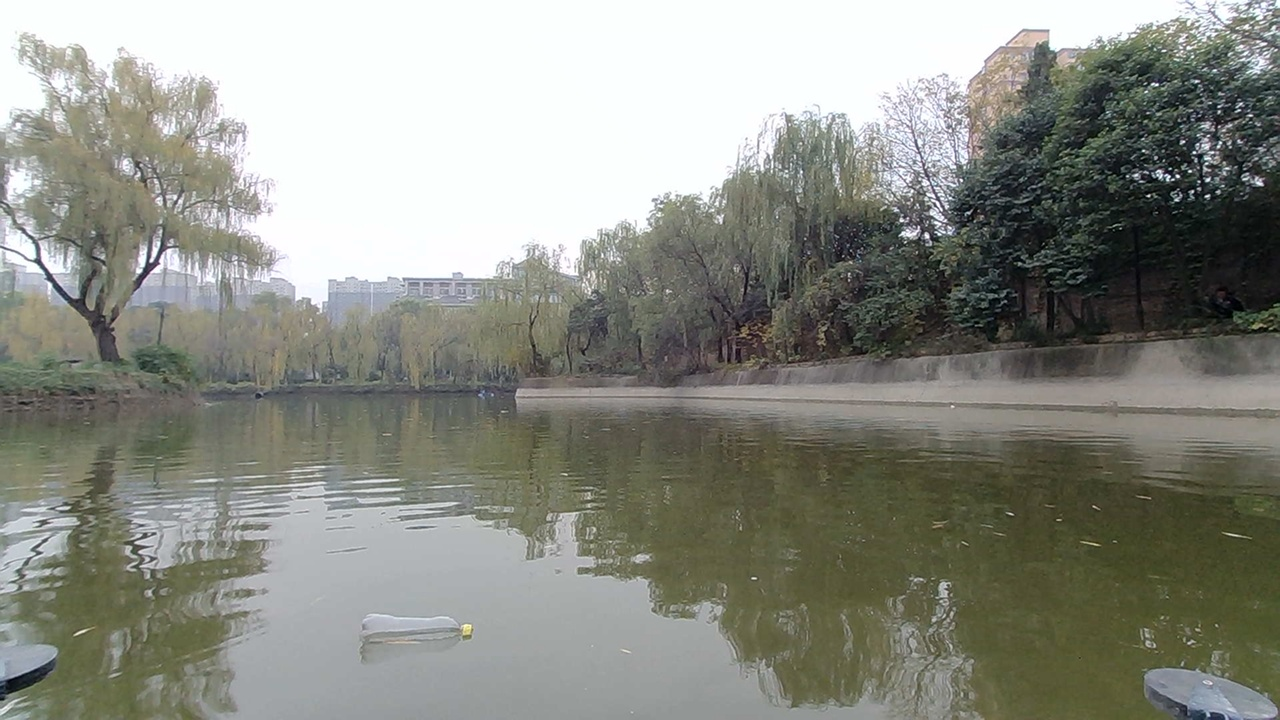bottle: (349, 610, 478, 674)
